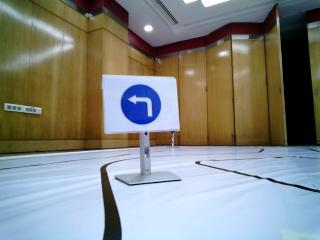left: (106, 73, 182, 131)
